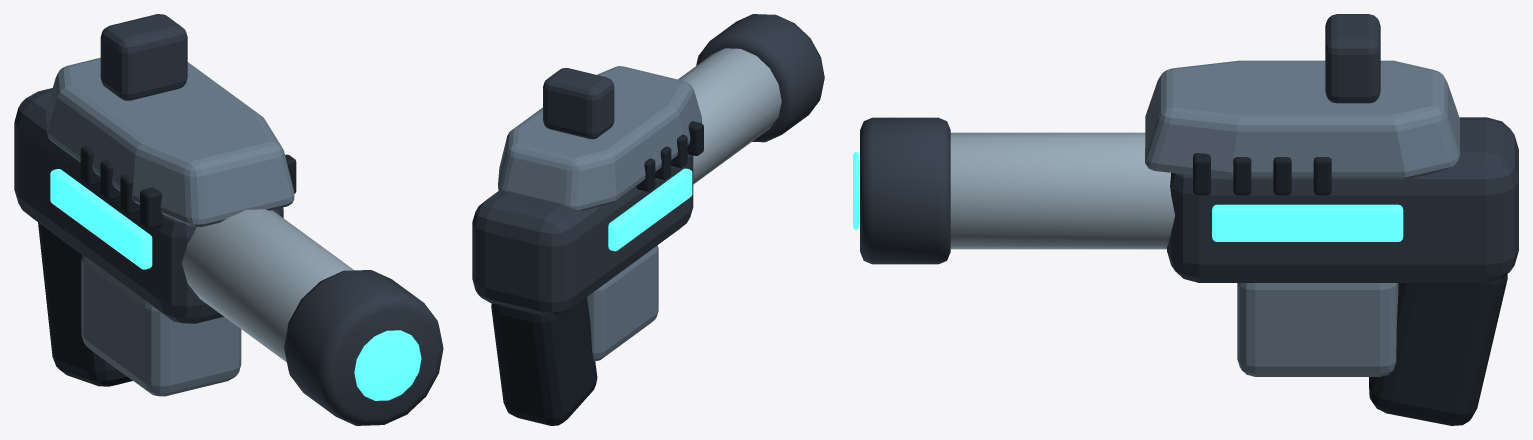
The model's file is PulseBlaster.fbx.
The picture shows the model from 3 angles, left to right: view 1: azimuth 30°, elevation 25°; view 2: azimuth 150°, elevation 25°; view 3: azimuth 270°, elevation 25°; orthographic projection. The views are drawn at different scales.
Parts seen in each view (by area): view 1: UpperReceiver, MuzzleGuard, PulseAccelerator, Receiver, Battery, ReflexSight, PistolGrip, EnergyChamber, MuzzleEmitter, HeatVent, HeatVent.003, HeatVent.002 (+1 smaller); view 2: Receiver, UpperReceiver, PistolGrip, PulseAccelerator, MuzzleGuard, Battery, ReflexSight, EnergyChamber, HeatVent, HeatVent.003, HeatVent.002, HeatVent.001; view 3: Receiver, UpperReceiver, PulseAccelerator, Battery, PistolGrip, MuzzleGuard, EnergyChamber.001, ReflexSight, HeatVent.004, HeatVent.005, HeatVent.006, HeatVent.007.
Part boxes in pixels (left/top/right/bottom): UpperReceiver: left=46, top=57, right=294, bottom=227; MuzzleGuard: left=284, top=270, right=443, bottom=425; PulseAccelerator: left=182, top=209, right=353, bottom=362; Receiver: left=14, top=88, right=283, bottom=323; Battery: left=81, top=255, right=241, bottom=396; ReflexSight: left=100, top=14, right=187, bottom=100; PistolGrip: left=38, top=222, right=132, bottom=386; EnergyChamber: left=50, top=169, right=152, bottom=269; MuzzleEmitter: left=354, top=330, right=421, bottom=400; HeatVent: left=140, top=187, right=162, bottom=229; HeatVent.003: left=80, top=145, right=100, bottom=186; HeatVent.002: left=100, top=160, right=120, bottom=200; Receiver: left=472, top=154, right=693, bottom=316; UpperReceiver: left=498, top=66, right=701, bottom=210; PistolGrip: left=491, top=297, right=597, bottom=425; PulseAccelerator: left=678, top=48, right=781, bottom=184; MuzzleGuard: left=696, top=14, right=824, bottom=142; Battery: left=587, top=245, right=658, bottom=361; ReflexSight: left=543, top=68, right=614, bottom=139; EnergyChamber: left=608, top=168, right=692, bottom=251; HeatVent: left=687, top=121, right=703, bottom=155; HeatVent.003: left=636, top=158, right=655, bottom=191; HeatVent.002: left=655, top=146, right=671, bottom=179; HeatVent.001: left=671, top=134, right=687, bottom=167; Receiver: left=1167, top=117, right=1518, bottom=282; UpperReceiver: left=1145, top=60, right=1459, bottom=179; PulseAccelerator: left=950, top=132, right=1175, bottom=249; Battery: left=1237, top=283, right=1398, bottom=376; PistolGrip: left=1369, top=274, right=1507, bottom=425; MuzzleGuard: left=860, top=117, right=950, bottom=264; EnergyChamber.001: left=1212, top=204, right=1403, bottom=241; ReflexSight: left=1325, top=14, right=1380, bottom=103; HeatVent.004: left=1193, top=153, right=1210, bottom=195; HeatVent.005: left=1233, top=157, right=1251, bottom=195; HeatVent.006: left=1273, top=157, right=1291, bottom=195; HeatVent.007: left=1313, top=157, right=1331, bottom=195.
Bounding box in the file's own units: 0.176 × 0.4248 × 0.662.
